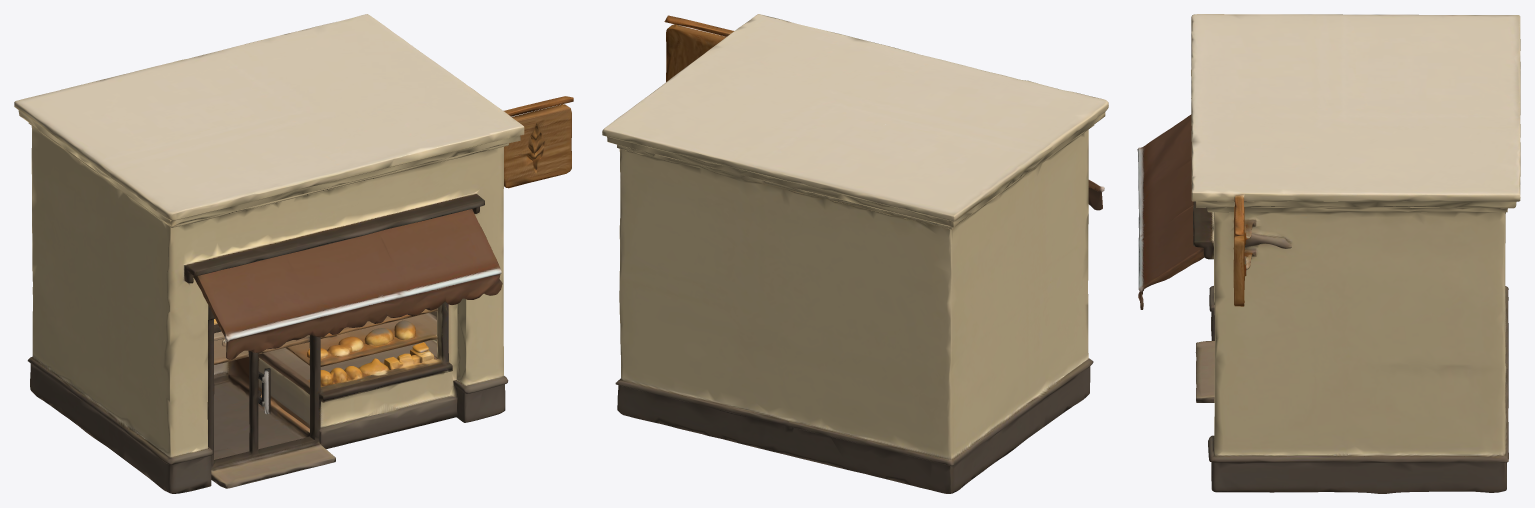
The model's file is firin.glb.
3 views of the same model, side by side, from view 1: azimuth 30°, elevation 25°; view 2: azimuth 150°, elevation 25°; view 3: azimuth 270°, elevation 25° (orthographic). The views are drawn at different scales.
Parts seen in each view (by area): view 1: tripo_node_4f055525-ec37-4d48-b3c6-63e4dd3b6ca3; view 2: tripo_node_4f055525-ec37-4d48-b3c6-63e4dd3b6ca3; view 3: tripo_node_4f055525-ec37-4d48-b3c6-63e4dd3b6ca3.
Part boxes in pixels (box(x1,y1,x2,y2)): tripo_node_4f055525-ec37-4d48-b3c6-63e4dd3b6ca3: box(14, 14, 573, 493); tripo_node_4f055525-ec37-4d48-b3c6-63e4dd3b6ca3: box(602, 14, 1108, 493); tripo_node_4f055525-ec37-4d48-b3c6-63e4dd3b6ca3: box(1137, 14, 1520, 493).
Bounding box in the file's own units: 1 × 0.6597 × 0.7459.
1 material, 1 textured.
